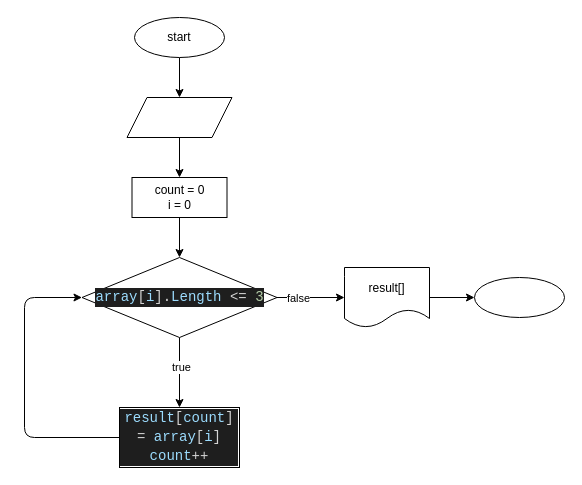
The diagram is 582 pixels wide and 485 high, and some of its shapes have lost their labels. Here are the shapes that lost their labels. From the top down, the centre of each, then its label:
point 179,117: array[] result[]
point 519,297: end
